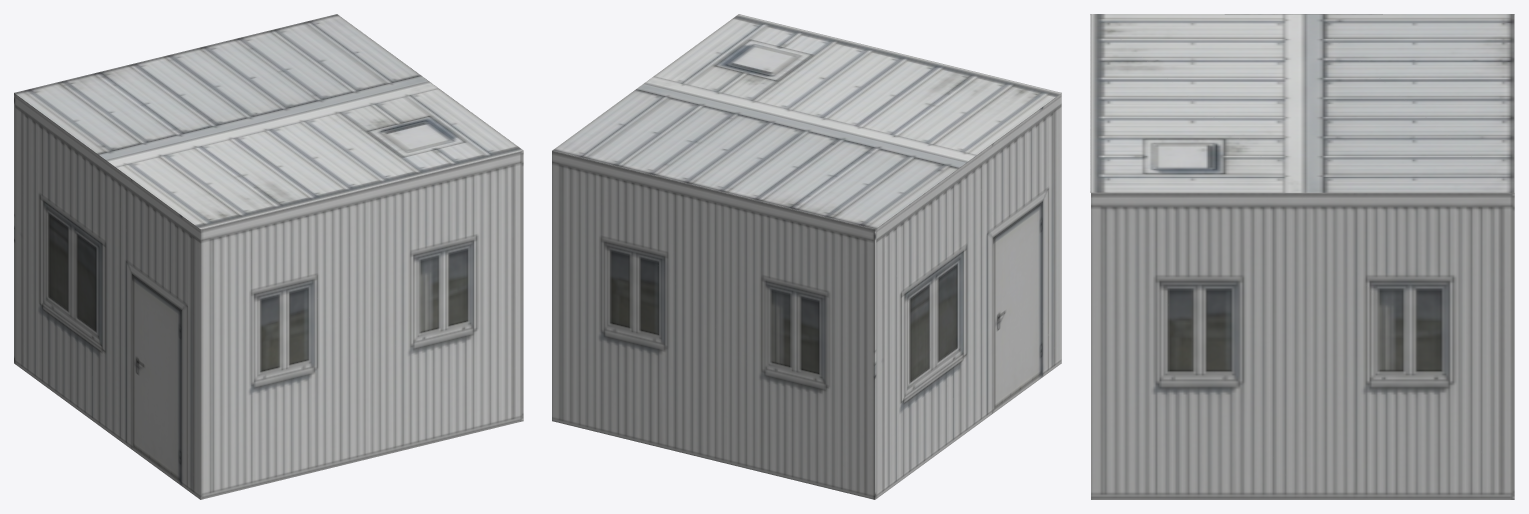
The model's file is angar111 (2).fbx.
The picture shows the model from 3 angles, left to right: view 1: azimuth 30°, elevation 25°; view 2: azimuth 150°, elevation 25°; view 3: azimuth 270°, elevation 25°; orthographic projection. The views are drawn at different scales.
Visible parts, largest first — view 1: Cube; view 2: Cube; view 3: Cube.
Part boxes in pixels (box(x1,y1,x2,y2)): Cube: box(14, 14, 523, 499); Cube: box(552, 14, 1061, 499); Cube: box(1090, 14, 1514, 499).
Size of the model in its own units: 600 by 480 by 601.
1 material, 1 textured.
